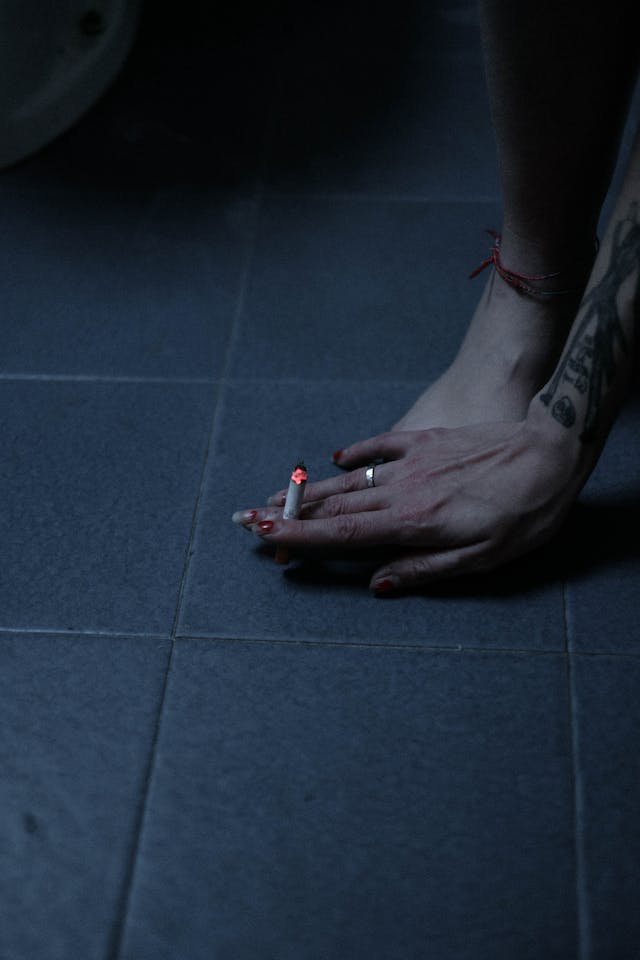Cigarette: (283, 464, 308, 520)
